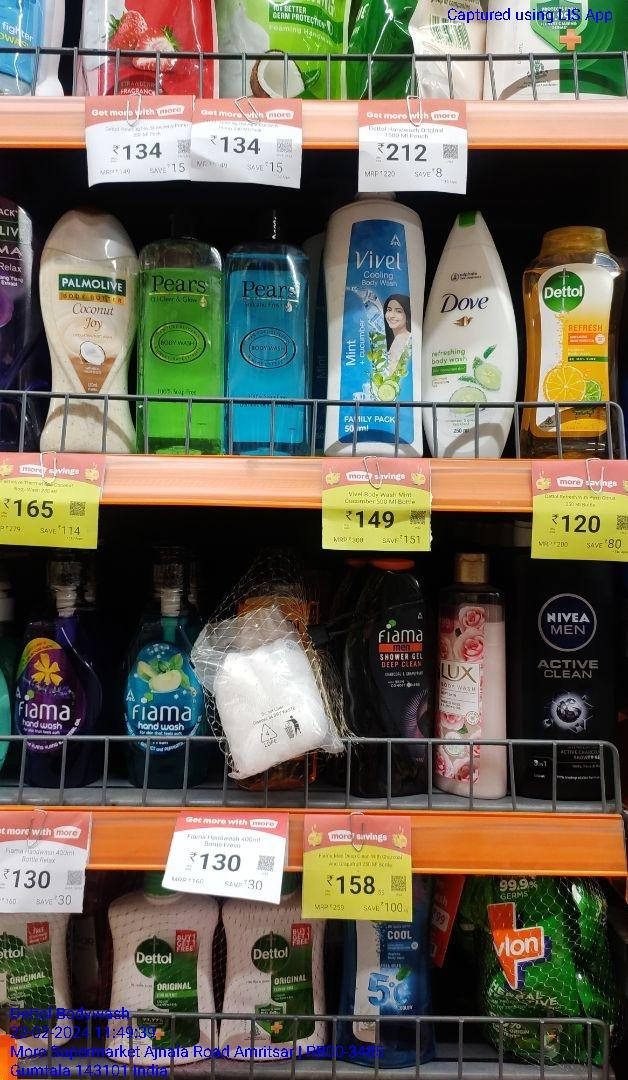Dettol_Bodywash_Refresh: (521, 213, 628, 456)
Dove_Refreshing_Body_Wash_250ML: (425, 201, 518, 464)
Palmolive_Coconut_Joy_Exfoliating_Body_Wash_250ML: (37, 206, 134, 454)
Pears_Pure_Glycerin_and_Lemon_Flower_Extracts_Body_Wash_250ML: (139, 201, 228, 456)
Pears_Pure_Glycerin_and_Mint_Extracts_Body_Wash_250ML: (228, 196, 318, 454)
